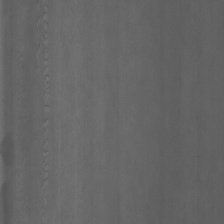silk_spot: (34, 4, 54, 212)
